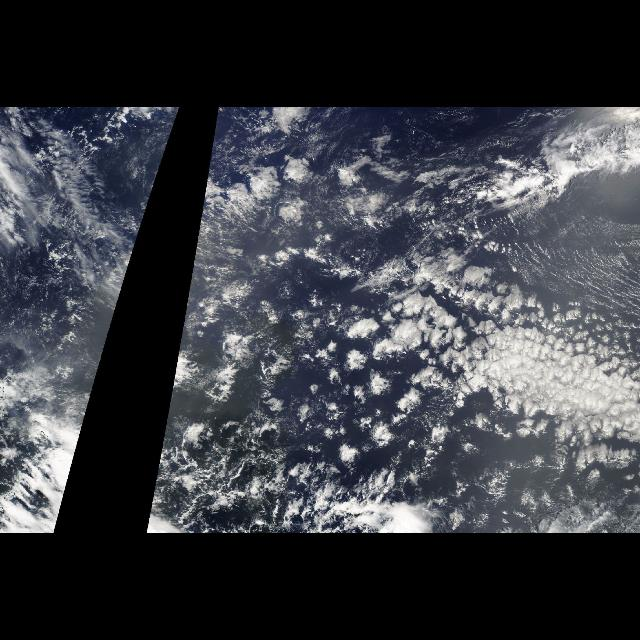Flower: (256, 234, 636, 491)
Sugar: (498, 184, 640, 332)
